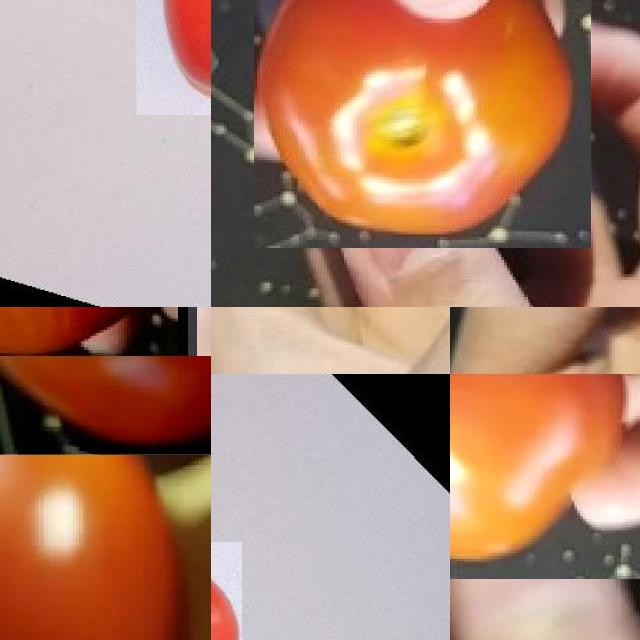Fresh Tomato: (254, 0, 592, 248), (0, 356, 193, 640), (450, 374, 640, 578), (0, 356, 211, 454)
